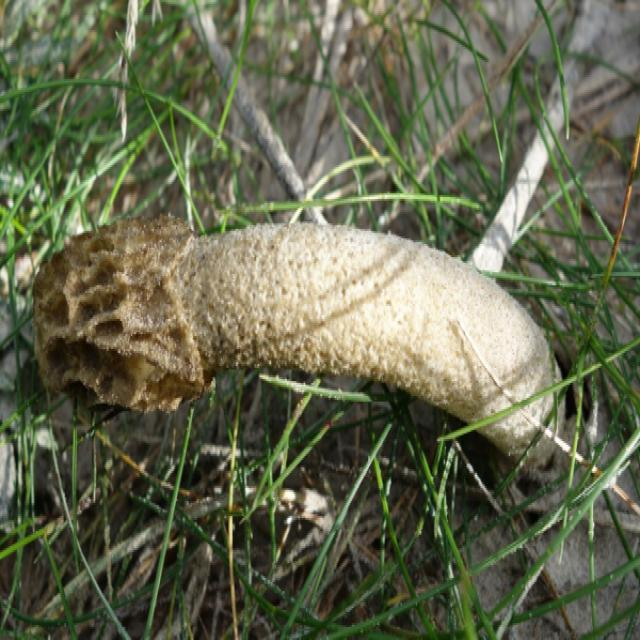Dictyophora indusiate: (35, 222, 568, 467)
